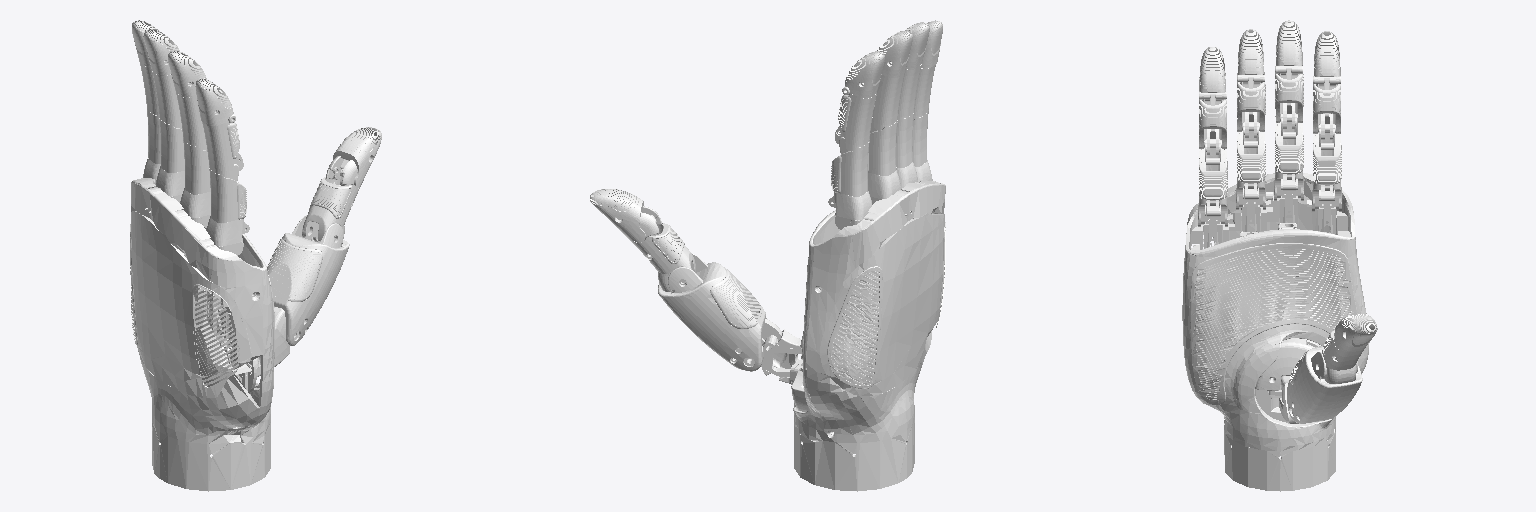
--- What the picture shows (computed from the rendered views, not written in the file) ---
The picture shows the robot from 3 angles, left to right: view 1: azimuth 30°, elevation 25°; view 2: azimuth 150°, elevation 25°; view 3: azimuth 270°, elevation 25°; orthographic projection.
Model linkerhand_l20_right.urdf with 22 links and 21 joints (21 revolute), rooted at base_link, posed joints at zero except 1 at the middle of their limits (thumb_cmc_yaw = 1.18).
Links seen in each view (by area): view 1: base_link, thumb_metacarpals, pinky_proximal, thumb_distal, thumb_proximal, ring_proximal, middle_proximal, pinky_middle, pinky_distal, ring_distal, ring_middle, middle_distal (+4 smaller); view 2: base_link, thumb_metacarpals, index_proximal, thumb_distal, middle_proximal, thumb_proximal, index_middle, thumb_metacarpals_base2, index_distal, middle_middle, ring_proximal, middle_distal (+6 smaller); view 3: base_link, thumb_metacarpals, pinky_proximal, middle_proximal, ring_proximal, index_proximal, thumb_metacarpals_base1, ring_middle, middle_middle, index_middle, pinky_middle, thumb_distal (+5 smaller).
Boxes of the visible links, x1=… form: base_link: x1=130, y1=178, x2=274, y2=491; thumb_metacarpals: x1=267, y1=215, x2=349, y2=345; pinky_proximal: x1=206, y1=164, x2=249, y2=255; thumb_distal: x1=326, y1=127, x2=381, y2=187; thumb_proximal: x1=302, y1=177, x2=359, y2=242; ring_proximal: x1=180, y1=140, x2=210, y2=227; middle_proximal: x1=156, y1=118, x2=184, y2=202; pinky_middle: x1=202, y1=115, x2=243, y2=177; pinky_distal: x1=195, y1=79, x2=233, y2=125; ring_distal: x1=168, y1=51, x2=206, y2=97; ring_middle: x1=176, y1=93, x2=206, y2=149; middle_distal: x1=144, y1=29, x2=179, y2=75; base_link: x1=793, y1=180, x2=945, y2=491; thumb_metacarpals: x1=658, y1=254, x2=782, y2=371; index_proximal: x1=828, y1=137, x2=871, y2=229; thumb_distal: x1=590, y1=189, x2=661, y2=242; middle_proximal: x1=868, y1=117, x2=900, y2=204; thumb_proximal: x1=631, y1=223, x2=695, y2=291; index_middle: x1=835, y1=86, x2=876, y2=151; thumb_metacarpals_base2: x1=761, y1=329, x2=801, y2=384; index_distal: x1=845, y1=51, x2=884, y2=98; middle_middle: x1=872, y1=73, x2=904, y2=130; ring_proximal: x1=896, y1=113, x2=917, y2=188; middle_distal: x1=877, y1=31, x2=912, y2=77; base_link: x1=1182, y1=173, x2=1369, y2=491; thumb_metacarpals: x1=1287, y1=346, x2=1362, y2=423; pinky_proximal: x1=1198, y1=139, x2=1227, y2=226; middle_proximal: x1=1274, y1=113, x2=1303, y2=200; ring_proximal: x1=1236, y1=122, x2=1265, y2=209; index_proximal: x1=1312, y1=124, x2=1341, y2=211; thumb_metacarpals_base1: x1=1255, y1=338, x2=1324, y2=422; ring_middle: x1=1237, y1=75, x2=1265, y2=137; middle_middle: x1=1275, y1=66, x2=1303, y2=128; index_middle: x1=1313, y1=76, x2=1340, y2=139; pinky_middle: x1=1199, y1=92, x2=1226, y2=154; thumb_distal: x1=1334, y1=314, x2=1377, y2=351.
Bounding box of the posed robot: 0.1704 × 0.1107 × 0.2634 m (x, y, z).
Meshes: 22 distinct files referenced, 22 mesh visuals loaded (22 binary STL).

The robot description file, URDF, robot "linkerhand_l20_right.urdf":
<?xml version="1.0" encoding="utf-8"?>
<!-- This URDF was automatically created by SolidWorks to URDF Exporter! Originally created by Stephen Brawner ([email redacted]) 
     Commit Version: 1.6.0-1-g15f4949  Build Version: 1.6.7594.29634
     For more information, please see http://wiki.ros.org/sw_urdf_exporter -->
<robot
  name="linkerhand_l20_right.urdf">
  <link
    name="base_link">
    <inertial>
      <origin
        xyz="0.000441885047026747 0.00500849972399617 0.0573919533012254"
        rpy="0 0 0" />
      <mass
        value="2.91817267018669E-05" />
      <inertia
        ixx="1.51306260584639E-11"
        ixy="2.65772325611336E-21"
        ixz="1.20313450442092E-16"
        iyy="2.22812296859512E-10"
        iyz="-4.56163949104085E-15"
        izz="2.22792879892319E-10" />
    </inertial>
    <visual>
      <origin
        xyz="0 0 0"
        rpy="0 0 0" />
      <geometry>
        <mesh
          filename="meshes/base_link.STL" />
      </geometry>
      <material
        name="">
        <color
          rgba="1 1 1 1" />
      </material>
    </visual>
    <collision>
      <origin
        xyz="0 0 0"
        rpy="0 0 0" />
      <geometry>
        <mesh
          filename="meshes/base_link.STL" />
      </geometry>
    </collision>
  </link>
  <link
    name="thumb_metacarpals_base1">
    <inertial>
      <origin
        xyz="0.0229535763476013 0.000832788697536835 -0.0013198199434825"
        rpy="0 0 0" />
      <mass
        value="0.000117519863807651" />
      <inertia
        ixx="2.36022486140104E-09"
        ixy="3.03248382970144E-13"
        ixz="-6.18340736069727E-12"
        iyy="2.35568711016501E-09"
        iyz="4.61881186600495E-13"
        izz="1.48861157996815E-10" />
    </inertial>
    <visual>
      <origin
        xyz="0 0 0"
        rpy="0 0 0" />
      <geometry>
        <mesh
          filename="meshes/thumb_metacarpals_base1.STL" />
      </geometry>
      <material
        name="">
        <color
          rgba="1 1 1 1" />
      </material>
    </visual>
    <collision>
      <origin
        xyz="0 0 0"
        rpy="0 0 0" />
      <geometry>
        <mesh
          filename="meshes/thumb_metacarpals_base1.STL" />
      </geometry>
    </collision>
  </link>
  <joint
    name="thumb_cmc_roll"
    type="revolute">
    <origin
      xyz="0.000673424792196536 0.00500849972399572 0.0573919534353699"
      rpy="0 0 0" />
    <parent
      link="base_link" />
    <child
      link="thumb_metacarpals_base1" />
    <axis
      xyz="0.999999999999929 0 0" />
    <limit
      lower="-0.5"
      upper="0.8"
      effort="100"
      velocity="1" />
  </joint>
  <link
    name="thumb_metacarpals_base2">
    <inertial>
      <origin
        xyz="0.000231570160724059 0.0745658286975114 0.0553790725054494"
        rpy="0 0 0" />
      <mass
        value="0.00583469729849543" />
      <inertia
        ixx="2.46142363141672E-06"
        ixy="1.13403105282533E-07"
        ixz="-2.91010442811516E-08"
        iyy="1.34551273815639E-06"
        iyz="5.67369748967897E-07"
        izz="1.54771605564477E-06" />
    </inertial>
    <visual>
      <origin
        xyz="0 0 0"
        rpy="0 0 0" />
      <geometry>
        <mesh
          filename="meshes/thumb_metacarpals_base2.STL" />
      </geometry>
      <material
        name="">
        <color
          rgba="1 1 1 1" />
      </material>
    </visual>
    <collision>
      <origin
        xyz="0 0 0"
        rpy="0 0 0" />
      <geometry>
        <mesh
          filename="meshes/thumb_metacarpals_base2.STL" />
      </geometry>
    </collision>
  </link>
  <joint
    name="thumb_cmc_yaw"
    type="revolute">
    <origin
      xyz="0.0229415604675387 0.000833353787679902 0"
      rpy="0 0 0" />
    <parent
      link="thumb_metacarpals_base1" />
    <child
      link="thumb_metacarpals_base2" />
    <axis
      xyz="0 0 -1" />
    <limit
      lower="0.15"
      upper="2.2"
      effort="100"
      velocity="1" />
  </joint>
  <link
    name="thumb_metacarpals">
    <inertial>
      <origin
        xyz="0.0034281344806788 0.000316261040417279 0.0674362259842037"
        rpy="0 0 0" />
      <mass
        value="0.00583469729849543" />
      <inertia
        ixx="2.00707953925106E-06"
        ixy="-1.02470756673672E-07"
        ixz="-1.34196876876637E-07"
        iyy="2.4614236313789E-06"
        iyz="5.66293125829818E-08"
        izz="8.86149254587927E-07" />
    </inertial>
    <visual>
      <origin
        xyz="0 0 0"
        rpy="0 0 0" />
      <geometry>
        <mesh
          filename="meshes/thumb_metacarpals.STL" />
      </geometry>
      <material
        name="">
        <color
          rgba="1 1 1 1" />
      </material>
    </visual>
    <collision>
      <origin
        xyz="0 0 0"
        rpy="0 0 0" />
      <geometry>
        <mesh
          filename="meshes/thumb_metacarpals.STL" />
      </geometry>
    </collision>
  </link>
  <joint
    name="thumb_cmc_pitch"
    type="revolute">
    <origin
      xyz="-8.46909131121537E-05 0.0307945044068651 0.00396440678804784"
      rpy="0 -0.756062553947979 -1.570796326182" />
    <parent
      link="thumb_metacarpals_base2" />
    <child
      link="thumb_metacarpals" />
    <axis
      xyz="0 1 0" />
    <limit
      lower="0"
      upper="0.6"
      effort="100"
      velocity="1" />
  </joint>
  <link
    name="thumb_proximal">
    <inertial>
      <origin
        xyz="-0.000627827255459873 0.000316261037763749 0.0113528676590863"
        rpy="0 0 0" />
      <mass
        value="0.00583469729849543" />
      <inertia
        ixx="2.00707953925106E-06"
        ixy="-1.02470756673672E-07"
        ixz="-1.34196876876637E-07"
        iyy="2.4614236313789E-06"
        iyz="5.66293125829818E-08"
        izz="8.86149254587927E-07" />
    </inertial>
    <visual>
      <origin
        xyz="0 0 0"
        rpy="0 0 0" />
      <geometry>
        <mesh
          filename="meshes/thumb_proximal.STL" />
      </geometry>
      <material
        name="">
        <color
          rgba="1 1 1 1" />
      </material>
    </visual>
    <collision>
      <origin
        xyz="0 0 0"
        rpy="0 0 0" />
      <geometry>
        <mesh
          filename="meshes/thumb_proximal.STL" />
      </geometry>
    </collision>
  </link>
  <joint
    name="thumb_mcp"
    type="revolute">
    <origin
      xyz="0.0040559617361387 0 0.0560833583251174"
      rpy="0 0 0" />
    <parent
      link="thumb_metacarpals" />
    <child
      link="thumb_proximal" />
    <axis
      xyz="0 1 0" />
    <limit
      lower="0"
      upper="1.2"
      effort="100"
      velocity="1" />
  </joint>
  <link
    name="thumb_distal">
    <inertial>
      <origin
        xyz="-0.00723058765258039 0.000316261034811652 -0.0230184194160739"
        rpy="0 0 0" />
      <mass
        value="0.00583469729849543" />
      <inertia
        ixx="2.00707953925106E-06"
        ixy="-1.02470756673672E-07"
        ixz="-1.34196876876637E-07"
        iyy="2.4614236313789E-06"
        iyz="5.66293125829817E-08"
        izz="8.86149254587927E-07" />
    </inertial>
    <visual>
      <origin
        xyz="0 0 0"
        rpy="0 0 0" />
      <geometry>
        <mesh
          filename="meshes/thumb_distal.STL" />
      </geometry>
      <material
        name="">
        <color
          rgba="1 1 1 1" />
      </material>
    </visual>
    <collision>
      <origin
        xyz="0 0 0"
        rpy="0 0 0" />
      <geometry>
        <mesh
          filename="meshes/thumb_distal.STL" />
      </geometry>
    </collision>
  </link>
  <joint
    name="thumb_ip"
    type="revolute">
    <origin
      xyz="0.00660276039712052 0 0.0343712870751602"
      rpy="0 0 0" />
    <parent
      link="thumb_proximal" />
    <child
      link="thumb_distal" />
    <axis
      xyz="0 1 0" />
    <limit
      lower="0"
      upper="1.2"
      effort="100"
      velocity="1" />
    <mimic
      joint="thumb_mcp"
      multiplier="1"
      offset="0" />
  </joint>
  <link
    name="index_metacarpals">
    <inertial>
      <origin
        xyz="0.0369695317509838 0.0537829394916592 -0.0465404514522212"
        rpy="0 0 0" />
      <mass
        value="0.00583469729849543" />
      <inertia
        ixx="2.46142363142307E-06"
        ixy="1.13403105251931E-07"
        ixz="-2.91010442940731E-08"
        iyy="1.34551273818186E-06"
        iyz="5.67369748972777E-07"
        izz="1.54771605561295E-06" />
    </inertial>
    <visual>
      <origin
        xyz="0 0 0"
        rpy="0 0 0" />
      <geometry>
        <mesh
          filename="meshes/index_metacarpals.STL" />
      </geometry>
      <material
        name="">
        <color
          rgba="1 1 1 1" />
      </material>
    </visual>
    <collision>
      <origin
        xyz="0 0 0"
        rpy="0 0 0" />
      <geometry>
        <mesh
          filename="meshes/index_metacarpals.STL" />
      </geometry>
    </collision>
  </link>
  <joint
    name="index_mcp_roll"
    type="revolute">
    <origin
      xyz="-0.0131230356952281 0.0266247663700636 0.159311466218564"
      rpy="0 0 0" />
    <parent
      link="base_link" />
    <child
      link="index_metacarpals" />
    <axis
      xyz="1 0 0" />
    <limit
      lower="-0.18"
      upper="0.18"
      effort="100"
      velocity="1" />
  </joint>
  <link
    name="index_proximal">
    <inertial>
      <origin
        xyz="0.03697 0.053783 -0.04654"
        rpy="0 0 0" />
      <mass
        value="0.0058347" />
      <inertia
        ixx="2.4614E-06"
        ixy="1.134E-07"
        ixz="-2.9101E-08"
        iyy="1.3455E-06"
        iyz="5.6737E-07"
        izz="1.5477E-06" />
    </inertial>
    <visual>
      <origin
        xyz="0 0 0"
        rpy="0 0 0" />
      <geometry>
        <mesh
          filename="meshes/index_proximal.STL" />
      </geometry>
      <material
        name="">
        <color
          rgba="1 1 1 1" />
      </material>
    </visual>
    <collision>
      <origin
        xyz="0 0 0"
        rpy="0 0 0" />
      <geometry>
        <mesh
          filename="meshes/index_proximal.STL" />
      </geometry>
    </collision>
  </link>
  <joint
    name="index_mcp_pitch"
    type="revolute">
    <origin
      xyz="0 0 0"
      rpy="0 0 0" />
    <parent
      link="index_metacarpals" />
    <child
      link="index_proximal" />
    <axis
      xyz="0 1 0" />
    <limit
      lower="0"
      upper="1.33"
      effort="100"
      velocity="1" />
  </joint>
  <link
    name="index_middle">
    <inertial>
      <origin
        xyz="0.041164173730248 0.0538329394860146 -0.0913598786448275"
        rpy="0 0 0" />
      <mass
        value="0.00583469729849543" />
      <inertia
        ixx="2.46142363142312E-06"
        ixy="1.13403105250885E-07"
        ixz="-2.9101044297371E-08"
        iyy="1.34551273814998E-06"
        iyz="5.67369748967099E-07"
        izz="1.54771605564478E-06" />
    </inertial>
    <visual>
      <origin
        xyz="0 0 0"
        rpy="0 0 0" />
      <geometry>
        <mesh
          filename="meshes/index_middle.STL" />
      </geometry>
      <material
        name="">
        <color
          rgba="1 1 1 1" />
      </material>
    </visual>
    <collision>
      <origin
        xyz="0 0 0"
        rpy="0 0 0" />
      <geometry>
        <mesh
          filename="meshes/index_middle.STL" />
      </geometry>
    </collision>
  </link>
  <joint
    name="index_pip"
    type="revolute">
    <origin
      xyz="-0.00419464197927529 -4.99999969099107E-05 0.0448194271910961"
      rpy="0 0 0" />
    <parent
      link="index_proximal" />
    <child
      link="index_middle" />
    <axis
      xyz="0 1 0" />
    <limit
      lower="0"
      upper="1.77"
      effort="100"
      velocity="1" />
  </joint>
  <link
    name="index_distal">
    <inertial>
      <origin
        xyz="0.0109846494992161 0.0538329394780222 -0.128447741754705"
        rpy="0 0 0" />
      <mass
        value="0.00583469729849543" />
      <inertia
        ixx="2.43123631172989E-06"
        ixy="2.33010515596331E-07"
        ixz="1.65885440042901E-07"
        iyy="1.34551273803883E-06"
        iyz="5.2959871214542E-07"
        izz="1.57790337544917E-06" />
    </inertial>
    <visual>
      <origin
        xyz="0 0 0"
        rpy="0 0 0" />
      <geometry>
        <mesh
          filename="meshes/index_distal.STL" />
      </geometry>
      <material
        name="">
        <color
          rgba="1 1 1 1" />
      </material>
    </visual>
    <collision>
      <origin
        xyz="0 0 0"
        rpy="0 0 0" />
      <geometry>
        <mesh
          filename="meshes/index_distal.STL" />
      </geometry>
    </collision>
  </link>
  <joint
    name="index_dip"
    type="revolute">
    <origin
      xyz="0.00275625762572076 0 0.0317023692875254"
      rpy="0 -0.217210944617023 0" />
    <parent
      link="index_middle" />
    <child
      link="index_distal" />
    <axis
      xyz="0 1 0" />
    <limit
      lower="0"
      upper="1.43"
      effort="100"
      velocity="1" />
    <mimic
      joint="index_pip"
      multiplier="0.807909"
      offset="0" />
  </joint>
  <link
    name="middle_metacarpals">
    <inertial>
      <origin
        xyz="0.0417033715062215 0.0753829394928262 -0.0510333406112854"
        rpy="0 0 0" />
      <mass
        value="0.00583469729849543" />
      <inertia
        ixx="2.461423631436E-06"
        ixy="1.13403105187538E-07"
        ixz="-2.91010443295791E-08"
        iyy="1.34551273813711E-06"
        iyz="5.67369748965446E-07"
        izz="1.54771605564478E-06" />
    </inertial>
    <visual>
      <origin
        xyz="0 0 0"
        rpy="0 0 0" />
      <geometry>
        <mesh
          filename="meshes/middle_metacarpals.STL" />
      </geometry>
      <material
        name="">
        <color
          rgba="1 1 1 1" />
      </material>
    </visual>
    <collision>
      <origin
        xyz="0 0 0"
        rpy="0 0 0" />
      <geometry>
        <mesh
          filename="meshes/middle_metacarpals.STL" />
      </geometry>
    </collision>
  </link>
  <joint
    name="middle_mcp_roll"
    type="revolute">
    <origin
      xyz="-0.0178568780584143 0.00502476703162374 0.163804355813813"
      rpy="0 0 0" />
    <parent
      link="base_link" />
    <child
      link="middle_metacarpals" />
    <axis
      xyz="1 0 0" />
    <limit
      lower="-0.18"
      upper="0.18"
      effort="100"
      velocity="1" />
  </joint>
  <link
    name="middle_proximal">
    <inertial>
      <origin
        xyz="0.0417033715062215 0.0753829394928262 -0.0510333406112854"
        rpy="0 0 0" />
      <mass
        value="0.00583469729849543" />
      <inertia
        ixx="2.461423631436E-06"
        ixy="1.13403105187538E-07"
        ixz="-2.91010443295791E-08"
        iyy="1.34551273813711E-06"
        iyz="5.67369748965447E-07"
        izz="1.54771605564478E-06" />
    </inertial>
    <visual>
      <origin
        xyz="0 0 0"
        rpy="0 0 0" />
      <geometry>
        <mesh
          filename="meshes/middle_proximal.STL" />
      </geometry>
      <material
        name="">
        <color
          rgba="1 1 1 1" />
      </material>
    </visual>
    <collision>
      <origin
        xyz="0 0 0"
        rpy="0 0 0" />
      <geometry>
        <mesh
          filename="meshes/middle_proximal.STL" />
      </geometry>
    </collision>
  </link>
  <joint
    name="middle_mcp_pitch"
    type="revolute">
    <origin
      xyz="0 0 0"
      rpy="0 0 0" />
    <parent
      link="middle_metacarpals" />
    <child
      link="middle_proximal" />
    <axis
      xyz="0 1 0" />
    <limit
      lower="0"
      upper="1.33"
      effort="100"
      velocity="1" />
  </joint>
  <link
    name="middle_middle">
    <inertial>
      <origin
        xyz="0.0458980134878245 0.0753832822205319 -0.0958527677923309"
        rpy="0 0 0" />
      <mass
        value="0.00583469729849543" />
      <inertia
        ixx="2.46142363142333E-06"
        ixy="1.13403105249966E-07"
        ixz="-2.91010442974085E-08"
        iyy="1.34551273815471E-06"
        iyz="5.67369748967952E-07"
        izz="1.54771605563984E-06" />
    </inertial>
    <visual>
      <origin
        xyz="0 0 0"
        rpy="0 0 0" />
      <geometry>
        <mesh
          filename="meshes/middle_middle.STL" />
      </geometry>
      <material
        name="">
        <color
          rgba="1 1 1 1" />
      </material>
    </visual>
    <collision>
      <origin
        xyz="0 0 0"
        rpy="0 0 0" />
      <geometry>
        <mesh
          filename="meshes/middle_middle.STL" />
      </geometry>
    </collision>
  </link>
  <joint
    name="middle_pip"
    type="revolute">
    <origin
      xyz="-0.0041946419773943 0 0.0448194271813739"
      rpy="0 0 0" />
    <parent
      link="middle_proximal" />
    <child
      link="middle_middle" />
    <axis
      xyz="0 1 0" />
    <limit
      lower="0"
      upper="1.77"
      effort="100"
      velocity="1" />
  </joint>
  <link
    name="middle_distal">
    <inertial>
      <origin
        xyz="0.0431417565588561 0.0753832822259055 -0.127555137608497"
        rpy="0 0 0" />
      <mass
        value="0.00583469729849543" />
      <inertia
        ixx="2.46142363142792E-06"
        ixy="1.13403105228423E-07"
        ixz="-2.91010443049728E-08"
        iyy="1.34551273818913E-06"
        iyz="5.67369748974314E-07"
        izz="1.54771605560084E-06" />
    </inertial>
    <visual>
      <origin
        xyz="0 0 0"
        rpy="0 0 0" />
      <geometry>
        <mesh
          filename="meshes/middle_distal.STL" />
      </geometry>
      <material
        name="">
        <color
          rgba="1 1 1 1" />
      </material>
    </visual>
    <collision>
      <origin
        xyz="0 0 0"
        rpy="0 0 0" />
      <geometry>
        <mesh
          filename="meshes/middle_distal.STL" />
      </geometry>
    </collision>
  </link>
  <joint
    name="middle_dip"
    type="revolute">
    <origin
      xyz="0.00275625692744558 0 0.0317023698187573"
      rpy="0 0 0" />
    <parent
      link="middle_middle" />
    <child
      link="middle_distal" />
    <axis
      xyz="0 1 0" />
    <limit
      lower="0"
      upper="1.43"
      effort="100"
      velocity="1" />
    <mimic
      joint="middle_pip"
      multiplier="0.807909"
      offset="0" />
  </joint>
  <link
    name="ring_metacarpals">
    <inertial>
      <origin
        xyz="0.0393985433026026 0.096982939491904 -0.0465404503544546"
        rpy="0 0 0" />
      <mass
        value="0.00583469729849543" />
      <inertia
        ixx="2.46142363142328E-06"
        ixy="1.13403105251025E-07"
        ixz="-2.9101044294104E-08"
        iyy="1.34551273818659E-06"
        iyz="5.67369748973631E-07"
        izz="1.54771605560801E-06" />
    </inertial>
    <visual>
      <origin
        xyz="0 0 0"
        rpy="0 0 0" />
      <geometry>
        <mesh
          filename="meshes/ring_metacarpals.STL" />
      </geometry>
      <material
        name="">
        <color
          rgba="1 1 1 1" />
      </material>
    </visual>
    <collision>
      <origin
        xyz="0 0 0"
        rpy="0 0 0" />
      <geometry>
        <mesh
          filename="meshes/ring_metacarpals.STL" />
      </geometry>
    </collision>
  </link>
  <joint
    name="ring_mcp_roll"
    type="revolute">
    <origin
      xyz="-0.0155520472481466 -0.0165752336298738 0.159311470075819"
      rpy="0 0 0" />
    <parent
      link="base_link" />
    <child
      link="ring_metacarpals" />
    <axis
      xyz="1 0 0" />
    <limit
      lower="-0.18"
      upper="0.18"
      effort="100"
      velocity="1" />
  </joint>
  <link
    name="ring_proximal">
    <inertial>
      <origin
        xyz="0.0393985433026026 0.096982939491904 -0.0465404503544546"
        rpy="0 0 0" />
      <mass
        value="0.00583469729849543" />
      <inertia
        ixx="2.46142363142328E-06"
        ixy="1.13403105251025E-07"
        ixz="-2.9101044294104E-08"
        iyy="1.34551273818659E-06"
        iyz="5.67369748973631E-07"
        izz="1.54771605560801E-06" />
    </inertial>
    <visual>
      <origin
        xyz="0 0 0"
        rpy="0 0 0" />
      <geometry>
        <mesh
          filename="meshes/ring_proximal.STL" />
      </geometry>
      <material
        name="">
        <color
          rgba="1 1 1 1" />
      </material>
    </visual>
    <collision>
      <origin
        xyz="0 0 0"
        rpy="0 0 0" />
      <geometry>
        <mesh
          filename="meshes/ring_proximal.STL" />
      </geometry>
    </collision>
  </link>
  <joint
    name="ring_mcp_pitch"
    type="revolute">
    <origin
      xyz="0 0 0"
      rpy="0 0 0" />
    <parent
      link="ring_metacarpals" />
    <child
      link="ring_proximal" />
    <axis
      xyz="0 1 0" />
    <limit
      lower="0"
      upper="1.33"
      effort="100"
      velocity="1" />
  </joint>
  <link
    name="ring_middle">
    <inertial>
      <origin
        xyz="0.0435931852745398 0.0969832822226263 -0.0913598775387995"
        rpy="0 0 0" />
      <mass
        value="0.00583469729849543" />
      <inertia
        ixx="2.46142363143605E-06"
        ixy="1.13403105187344E-07"
        ixz="-2.91010443295023E-08"
        iyy="1.34551273813907E-06"
        iyz="5.67369748965799E-07"
        izz="1.54771605564277E-06" />
    </inertial>
    <visual>
      <origin
        xyz="0 0 0"
        rpy="0 0 0" />
      <geometry>
        <mesh
          filename="meshes/ring_middle.STL" />
      </geometry>
      <material
        name="">
        <color
          rgba="1 1 1 1" />
      </material>
    </visual>
    <collision>
      <origin
        xyz="0 0 0"
        rpy="0 0 0" />
      <geometry>
        <mesh
          filename="meshes/ring_middle.STL" />
      </geometry>
    </collision>
  </link>
  <joint
    name="ring_pip"
    type="revolute">
    <origin
      xyz="-0.00419464197739421 0 0.044819427181374"
      rpy="0 0 0" />
    <parent
      link="ring_proximal" />
    <child
      link="ring_middle" />
    <axis
      xyz="0 1 0" />
    <limit
      lower="0"
      upper="1.77"
      effort="100"
      velocity="1" />
  </joint>
  <link
    name="ring_distal">
    <inertial>
      <origin
        xyz="0.0408369283505707 0.0969832822255912 -0.123062247353973"
        rpy="0 0 0" />
      <mass
        value="0.00583469729849543" />
      <inertia
        ixx="2.46142363142792E-06"
        ixy="1.13403105228423E-07"
        ixz="-2.91010443049728E-08"
        iyy="1.34551273818913E-06"
        iyz="5.67369748974314E-07"
        izz="1.54771605560084E-06" />
    </inertial>
    <visual>
      <origin
        xyz="0 0 0"
        rpy="0 0 0" />
      <geometry>
        <mesh
          filename="meshes/ring_distal.STL" />
      </geometry>
      <material
        name="">
        <color
          rgba="1 1 1 1" />
      </material>
    </visual>
    <collision>
      <origin
        xyz="0 0 0"
        rpy="0 0 0" />
      <geometry>
        <mesh
          filename="meshes/ring_distal.STL" />
      </geometry>
    </collision>
  </link>
  <joint
    name="ring_dip"
    type="revolute">
    <origin
      xyz="0.00275625692744577 0 0.0317023698187571"
      rpy="0 0 0" />
    <parent
      link="ring_middle" />
    <child
      link="ring_distal" />
    <axis
      xyz="0 1 0" />
    <limit
      lower="0"
      upper="1.43"
      effort="100"
      velocity="1" />
    <mimic
      joint="ring_pip"
      multiplier="0.807909"
      offset="0" />
  </joint>
  <link
    name="pinky_metacarpals">
    <inertial>
      <origin
        xyz="0.0357747782390721 0.1185829394934 -0.0375417245830277"
        rpy="0 0 0" />
      <mass
        value="0.00583469729849543" />
      <inertia
        ixx="2.461423631436E-06"
        ixy="1.13403105188406E-07"
        ixz="-2.91010443261962E-08"
        iyy="1.34551273817096E-06"
        iyz="5.67369748971479E-07"
        izz="1.54771605561093E-06" />
    </inertial>
    <visual>
      <origin
        xyz="0 0 0"
        rpy="0 0 0" />
      <geometry>
        <mesh
          filename="meshes/pinky_metacarpals.STL" />
      </geometry>
      <material
        name="">
        <color
          rgba="1 1 1 1" />
      </material>
    </visual>
    <collision>
      <origin
        xyz="0 0 0"
        rpy="0 0 0" />
      <geometry>
        <mesh
          filename="meshes/pinky_metacarpals.STL" />
      </geometry>
    </collision>
  </link>
  <joint
    name="pinky_mcp_roll"
    type="revolute">
    <origin
      xyz="-0.0119282769782894 -0.0381752349548123 0.150312749584634"
      rpy="0 0 0" />
    <parent
      link="base_link" />
    <child
      link="pinky_metacarpals" />
    <axis
      xyz="1 0 0" />
    <limit
      lower="-0.18"
      upper="0.18"
      effort="100"
      velocity="1" />
  </joint>
  <link
    name="pinky_proximal">
    <inertial>
      <origin
        xyz="0.0357747782390721 0.1185829394934 -0.0375417245830277"
        rpy="0 0 0" />
      <mass
        value="0.00583469729849543" />
      <inertia
        ixx="2.461423631436E-06"
        ixy="1.13403105188406E-07"
        ixz="-2.91010443261962E-08"
        iyy="1.34551273817096E-06"
        iyz="5.67369748971479E-07"
        izz="1.54771605561093E-06" />
    </inertial>
    <visual>
      <origin
        xyz="0 0 0"
        rpy="0 0 0" />
      <geometry>
        <mesh
          filename="meshes/pinky_proximal.STL" />
      </geometry>
      <material
        name="">
        <color
          rgba="1 1 1 1" />
      </material>
    </visual>
    <collision>
      <origin
        xyz="0 0 0"
        rpy="0 0 0" />
      <geometry>
        <mesh
          filename="meshes/pinky_proximal.STL" />
      </geometry>
    </collision>
  </link>
  <joint
    name="pinky_mcp_pitch"
    type="revolute">
    <origin
      xyz="0 0 0"
      rpy="0 0 0" />
    <parent
      link="pinky_metacarpals" />
    <child
      link="pinky_proximal" />
    <axis
      xyz="0 1 0" />
    <limit
      lower="0"
      upper="1.33"
      effort="100"
      velocity="1" />
  </joint>
  <link
    name="pinky_middle">
    <inertial>
      <origin
        xyz="0.0399694202164405 0.118583282222286 -0.0823611517776266"
        rpy="0 0 0" />
      <mass
        value="0.00583469729849543" />
      <inertia
        ixx="2.46142363143605E-06"
        ixy="1.13403105187344E-07"
        ixz="-2.91010443295023E-08"
        iyy="1.34551273813907E-06"
        iyz="5.67369748965799E-07"
        izz="1.54771605564277E-06" />
    </inertial>
    <visual>
      <origin
        xyz="0 0 0"
        rpy="0 0 0" />
      <geometry>
        <mesh
          filename="meshes/pinky_middle.STL" />
      </geometry>
      <material
        name="">
        <color
          rgba="1 1 1 1" />
      </material>
    </visual>
    <collision>
      <origin
        xyz="0 0 0"
        rpy="0 0 0" />
      <geometry>
        <mesh
          filename="meshes/pinky_middle.STL" />
      </geometry>
    </collision>
  </link>
  <joint
    name="pinky_pip"
    type="revolute">
    <origin
      xyz="-0.00419464197739449 0 0.0448194271912721"
      rpy="0 0 0" />
    <parent
      link="pinky_proximal" />
    <child
      link="pinky_middle" />
    <axis
      xyz="0 1 0" />
    <limit
      lower="0"
      upper="1.77"
      effort="100"
      velocity="1" />
  </joint>
  <link
    name="pinky_distal">
    <inertial>
      <origin
        xyz="0.0117572575484302 0.118583282224451 -0.119402987296551"
        rpy="0 0 0" />
      <mass
        value="0.00583469729849543" />
      <inertia
        ixx="2.43123630861852E-06"
        ixy="2.33010520569583E-07"
        ixz="1.65885448022839E-07"
        iyy="1.34551273818384E-06"
        iyz="5.29598709996232E-07"
        izz="1.57790337841553E-06" />
    </inertial>
    <visual>
      <origin
        xyz="0 0 0"
        rpy="0 0 0" />
      <geometry>
        <mesh
          filename="meshes/pinky_distal.STL" />
      </geometry>
      <material
        name="">
        <color
          rgba="1 1 1 1" />
      </material>
    </visual>
    <collision>
      <origin
        xyz="0 0 0"
        rpy="0 0 0" />
      <geometry>
        <mesh
          filename="meshes/pinky_distal.STL" />
      </geometry>
    </collision>
  </link>
  <joint
    name="pinky_dip"
    type="revolute">
    <origin
      xyz="0.00275625692744577 0 0.0317023698187571"
      rpy="0 -0.217210953895726 0" />
    <parent
      link="pinky_middle" />
    <child
      link="pinky_distal" />
    <axis
      xyz="0 1 0" />
    <limit
      lower="0"
      upper="1.43"
      effort="100"
      velocity="1" />
    <mimic
      joint="pinky_pip"
      multiplier="0.807909"
      offset="0" />
  </joint>
</robot>
